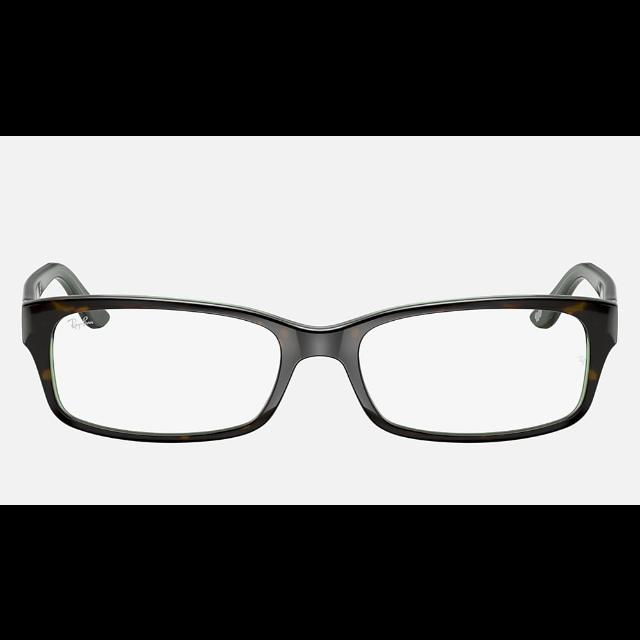glasses: (22, 258, 620, 444)
